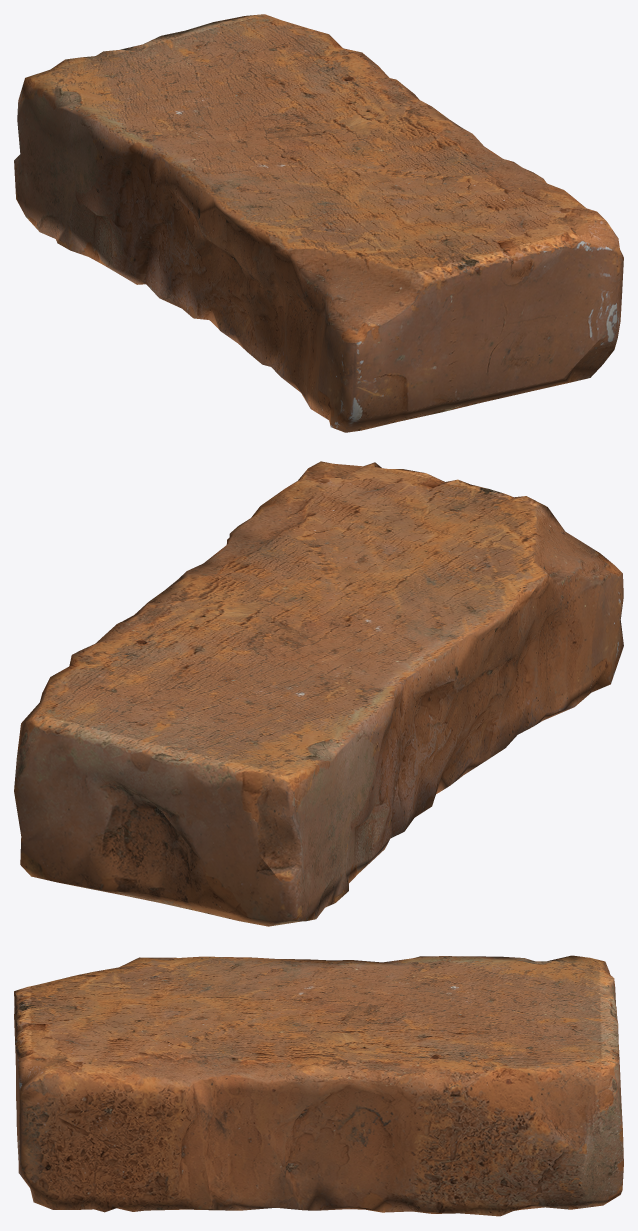
The model's file is sm_Brick_07_01.fbx.
The picture shows the model from 3 angles, top to bottom: view 1: azimuth 30°, elevation 25°; view 2: azimuth 150°, elevation 25°; view 3: azimuth 270°, elevation 25°; orthographic projection. The views are drawn at different scales.
Visible parts, largest first — view 1: sm_Brick_07_01_LOD0; view 2: sm_Brick_07_01_LOD0; view 3: sm_Brick_07_01_LOD0.
Boxes of the visible parts, x1=… form: sm_Brick_07_01_LOD0: x1=14, y1=14, x2=623, y2=432; sm_Brick_07_01_LOD0: x1=14, y1=461, x2=623, y2=926; sm_Brick_07_01_LOD0: x1=14, y1=955, x2=623, y2=1216.
Bounding box in the file's own units: 13.5 × 26.11 × 7.09.
